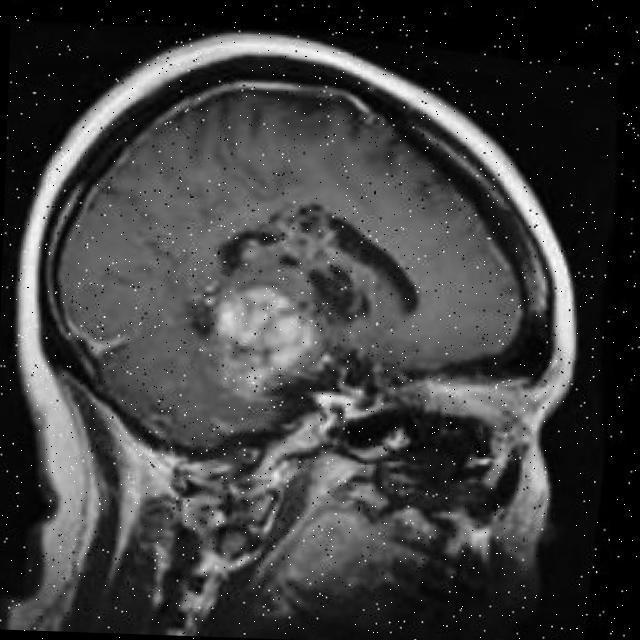MCI: (188, 269, 378, 416)
